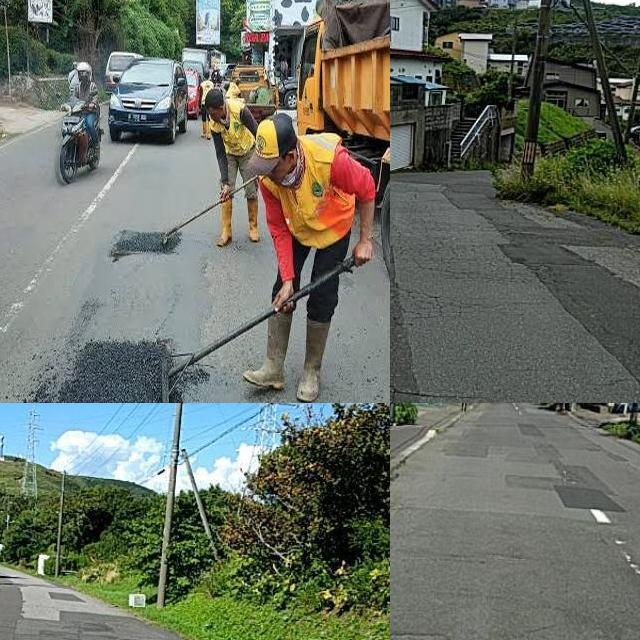Sambungan: (446, 194, 640, 385), (60, 333, 172, 403), (22, 587, 139, 621), (553, 480, 624, 512)
